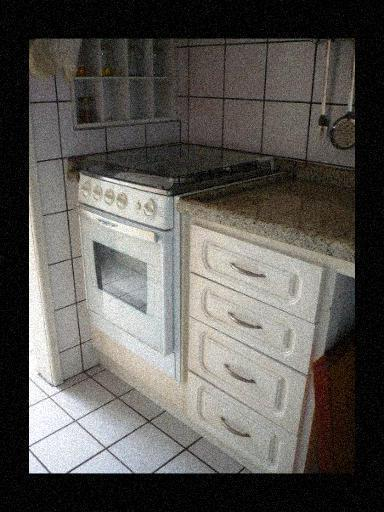Electrodomestico: (88, 164, 183, 417)
